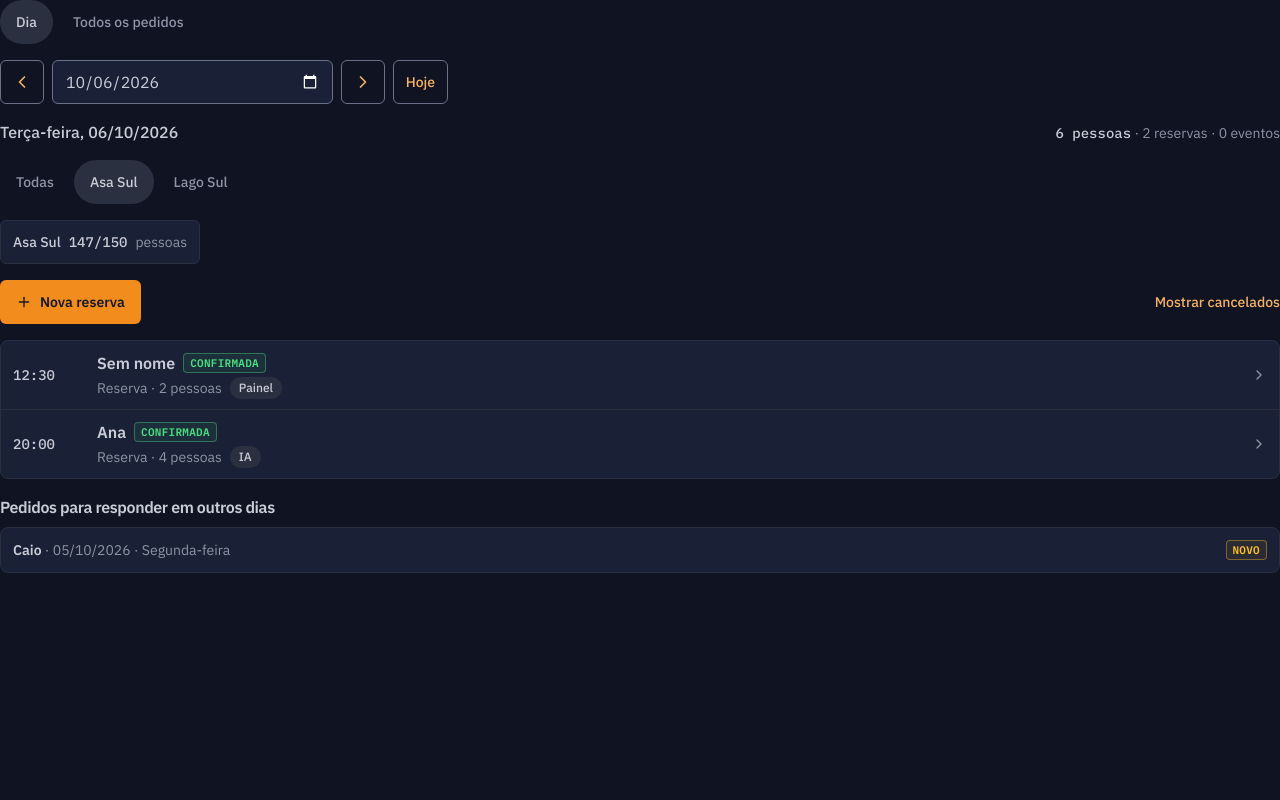
Test: AgendaDia: reservas › Nova reserva abre o formulário com o dia escolhido
The width and height of the screenshot is (1280, 800).
Click the button "Nova reserva" at x=70, y=302, box [0,280,141,324]
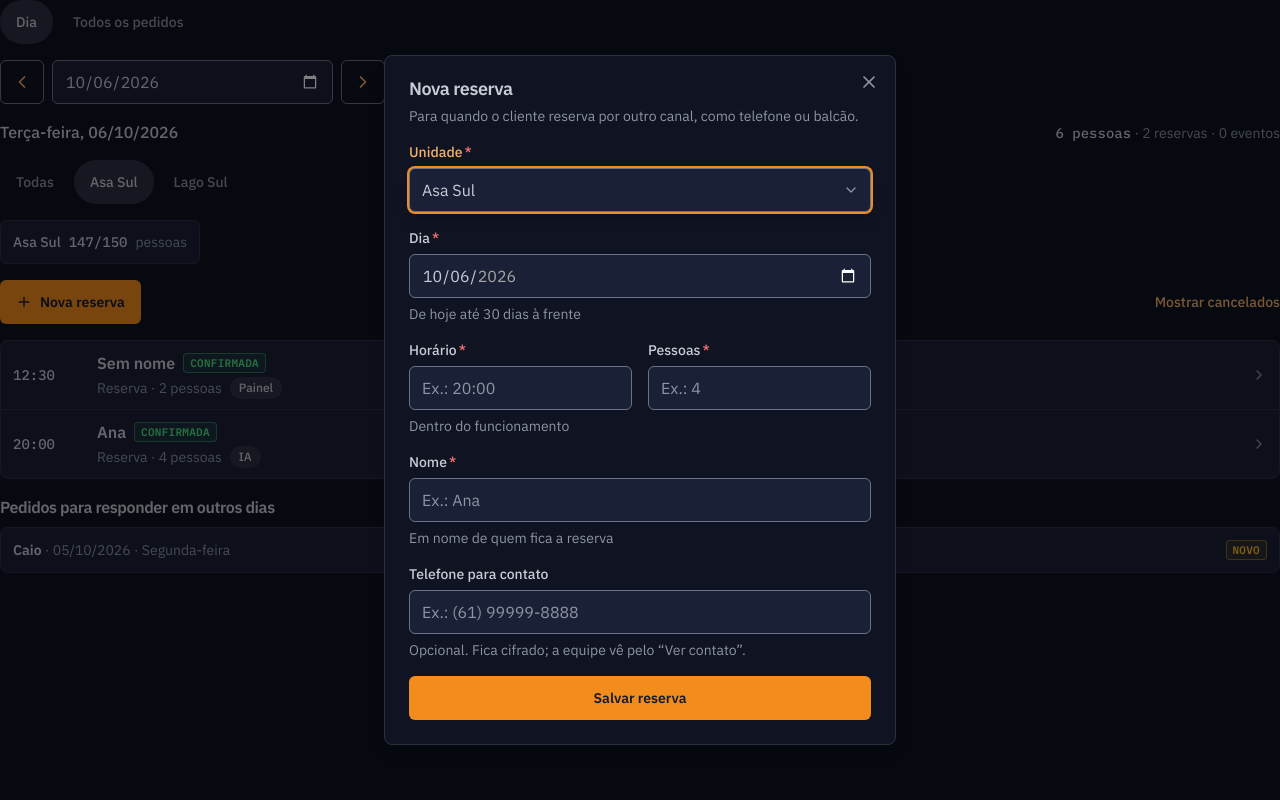
Expected: the button "Salvar reserva" is shown, [409,676,871,720]
Expected: the date field labelled "Dia*" holds "2026-10-06", [409,254,871,298]
